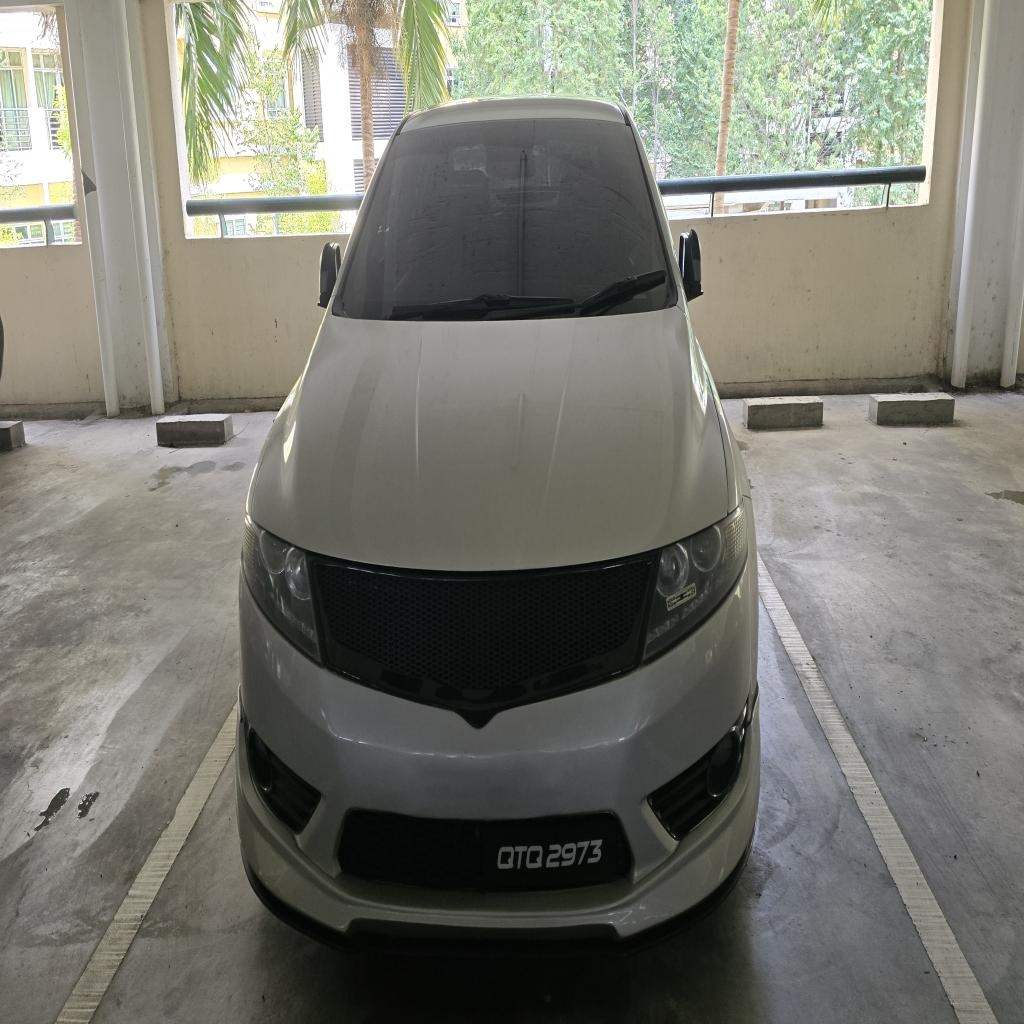car: (237, 100, 759, 948)
car plate: (481, 814, 627, 890)
